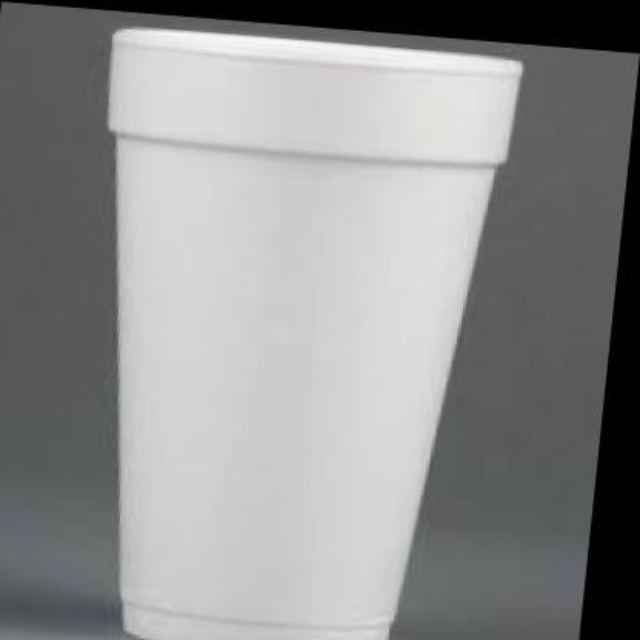trash: (109, 28, 522, 638)
